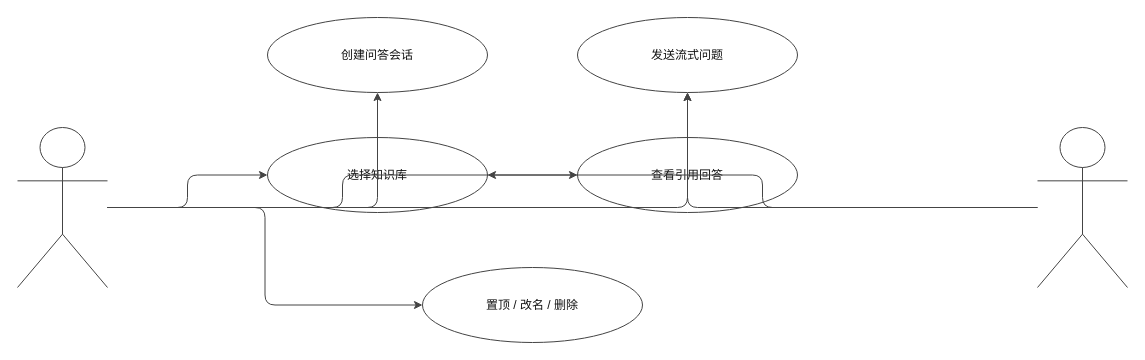
Image size: 1145x360. Some labels were removed from this diagram. The centre of each missing label's shape, as x and y in pixels:
HR / 讲师: the point at 1082,207
求职者: the point at 62,207
